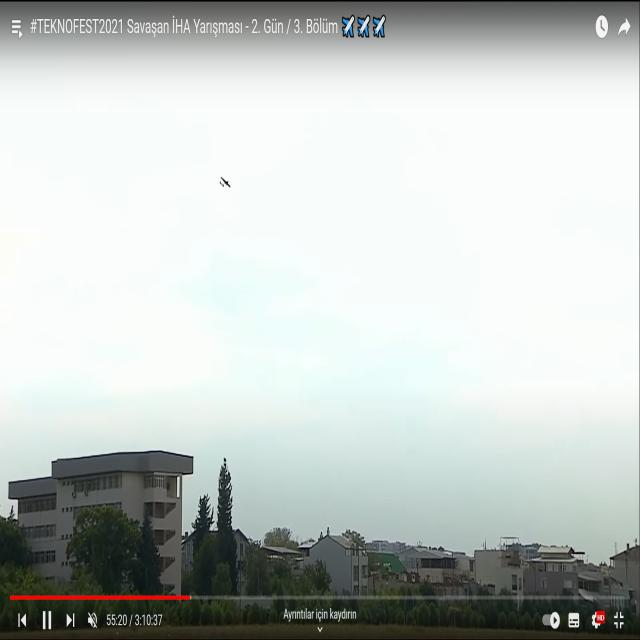iha: (218, 173, 231, 190)
